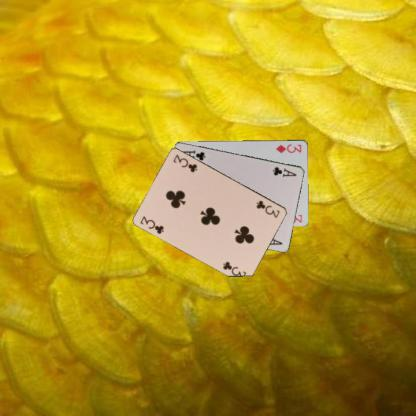3c: (138, 213, 165, 235), (254, 198, 281, 219)
3d: (273, 141, 303, 154)
Ac: (270, 164, 297, 179)
